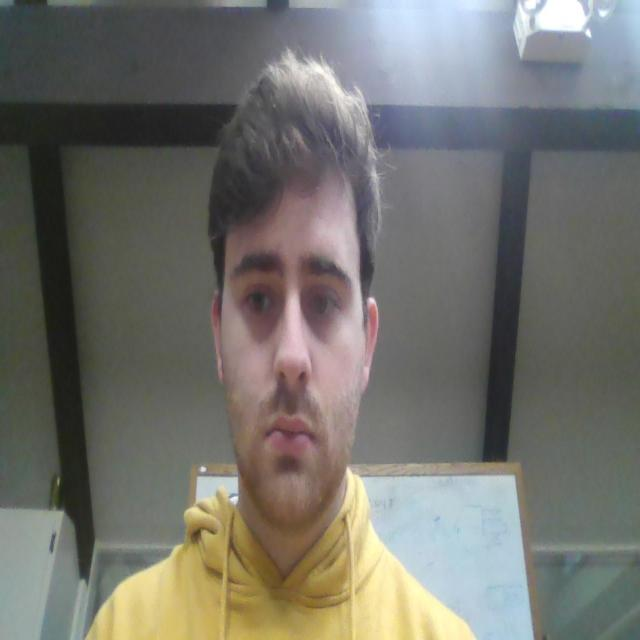gaze: (314, 294, 328, 314), (252, 290, 265, 311)
